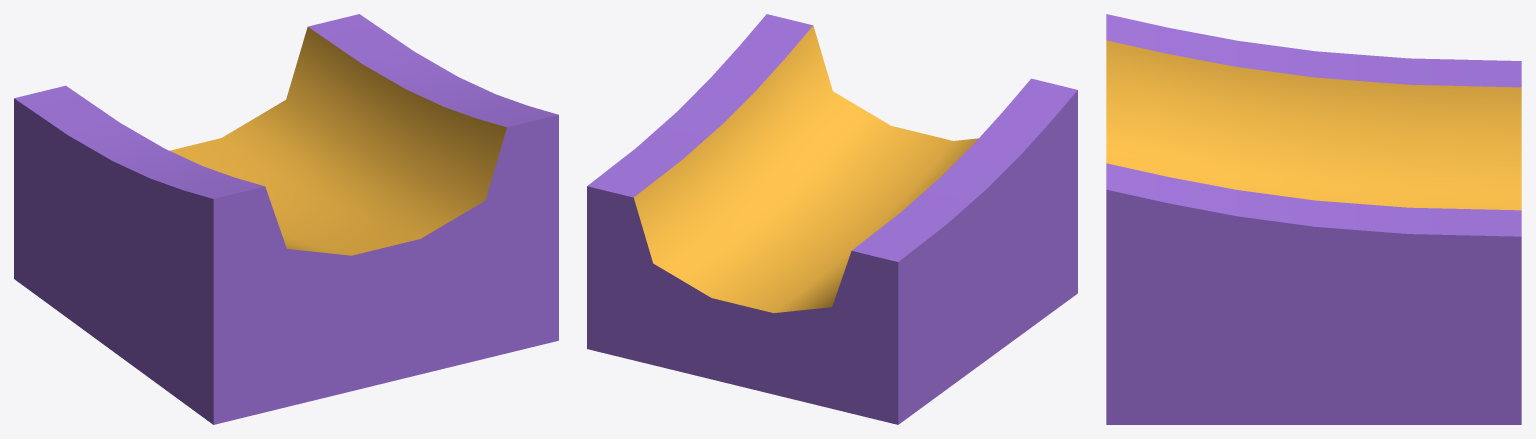
Rendered from ramp-start-solid-a.glb.
The picture shows the model from 3 angles, left to right: view 1: azimuth 30°, elevation 25°; view 2: azimuth 150°, elevation 25°; view 3: azimuth 270°, elevation 25°; orthographic projection. The views are drawn at different scales.
Visible parts, largest first — view 1: ramp-start-solid-a; view 2: ramp-start-solid-a; view 3: ramp-start-solid-a.
Boxes of the visible parts, x1,y1,x2,y2 form: ramp-start-solid-a: [14, 14, 558, 424]; ramp-start-solid-a: [587, 14, 1077, 424]; ramp-start-solid-a: [1106, 14, 1521, 424].
Bounding box in the file's own units: 1 × 0.625 × 1.
1 material, 1 textured.
